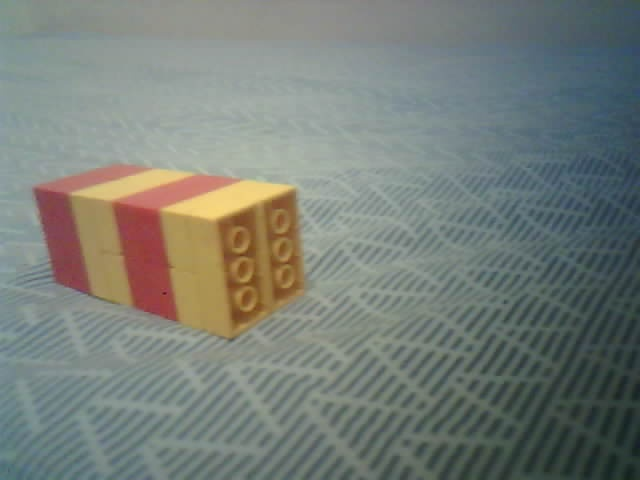lego: (30, 161, 307, 342)
